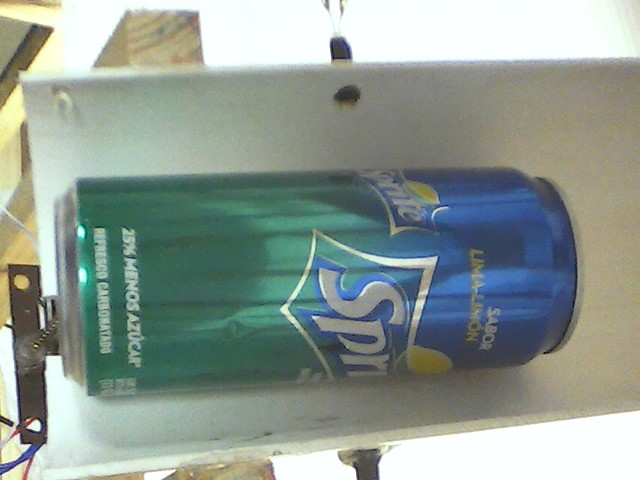lata: (49, 162, 592, 407)
